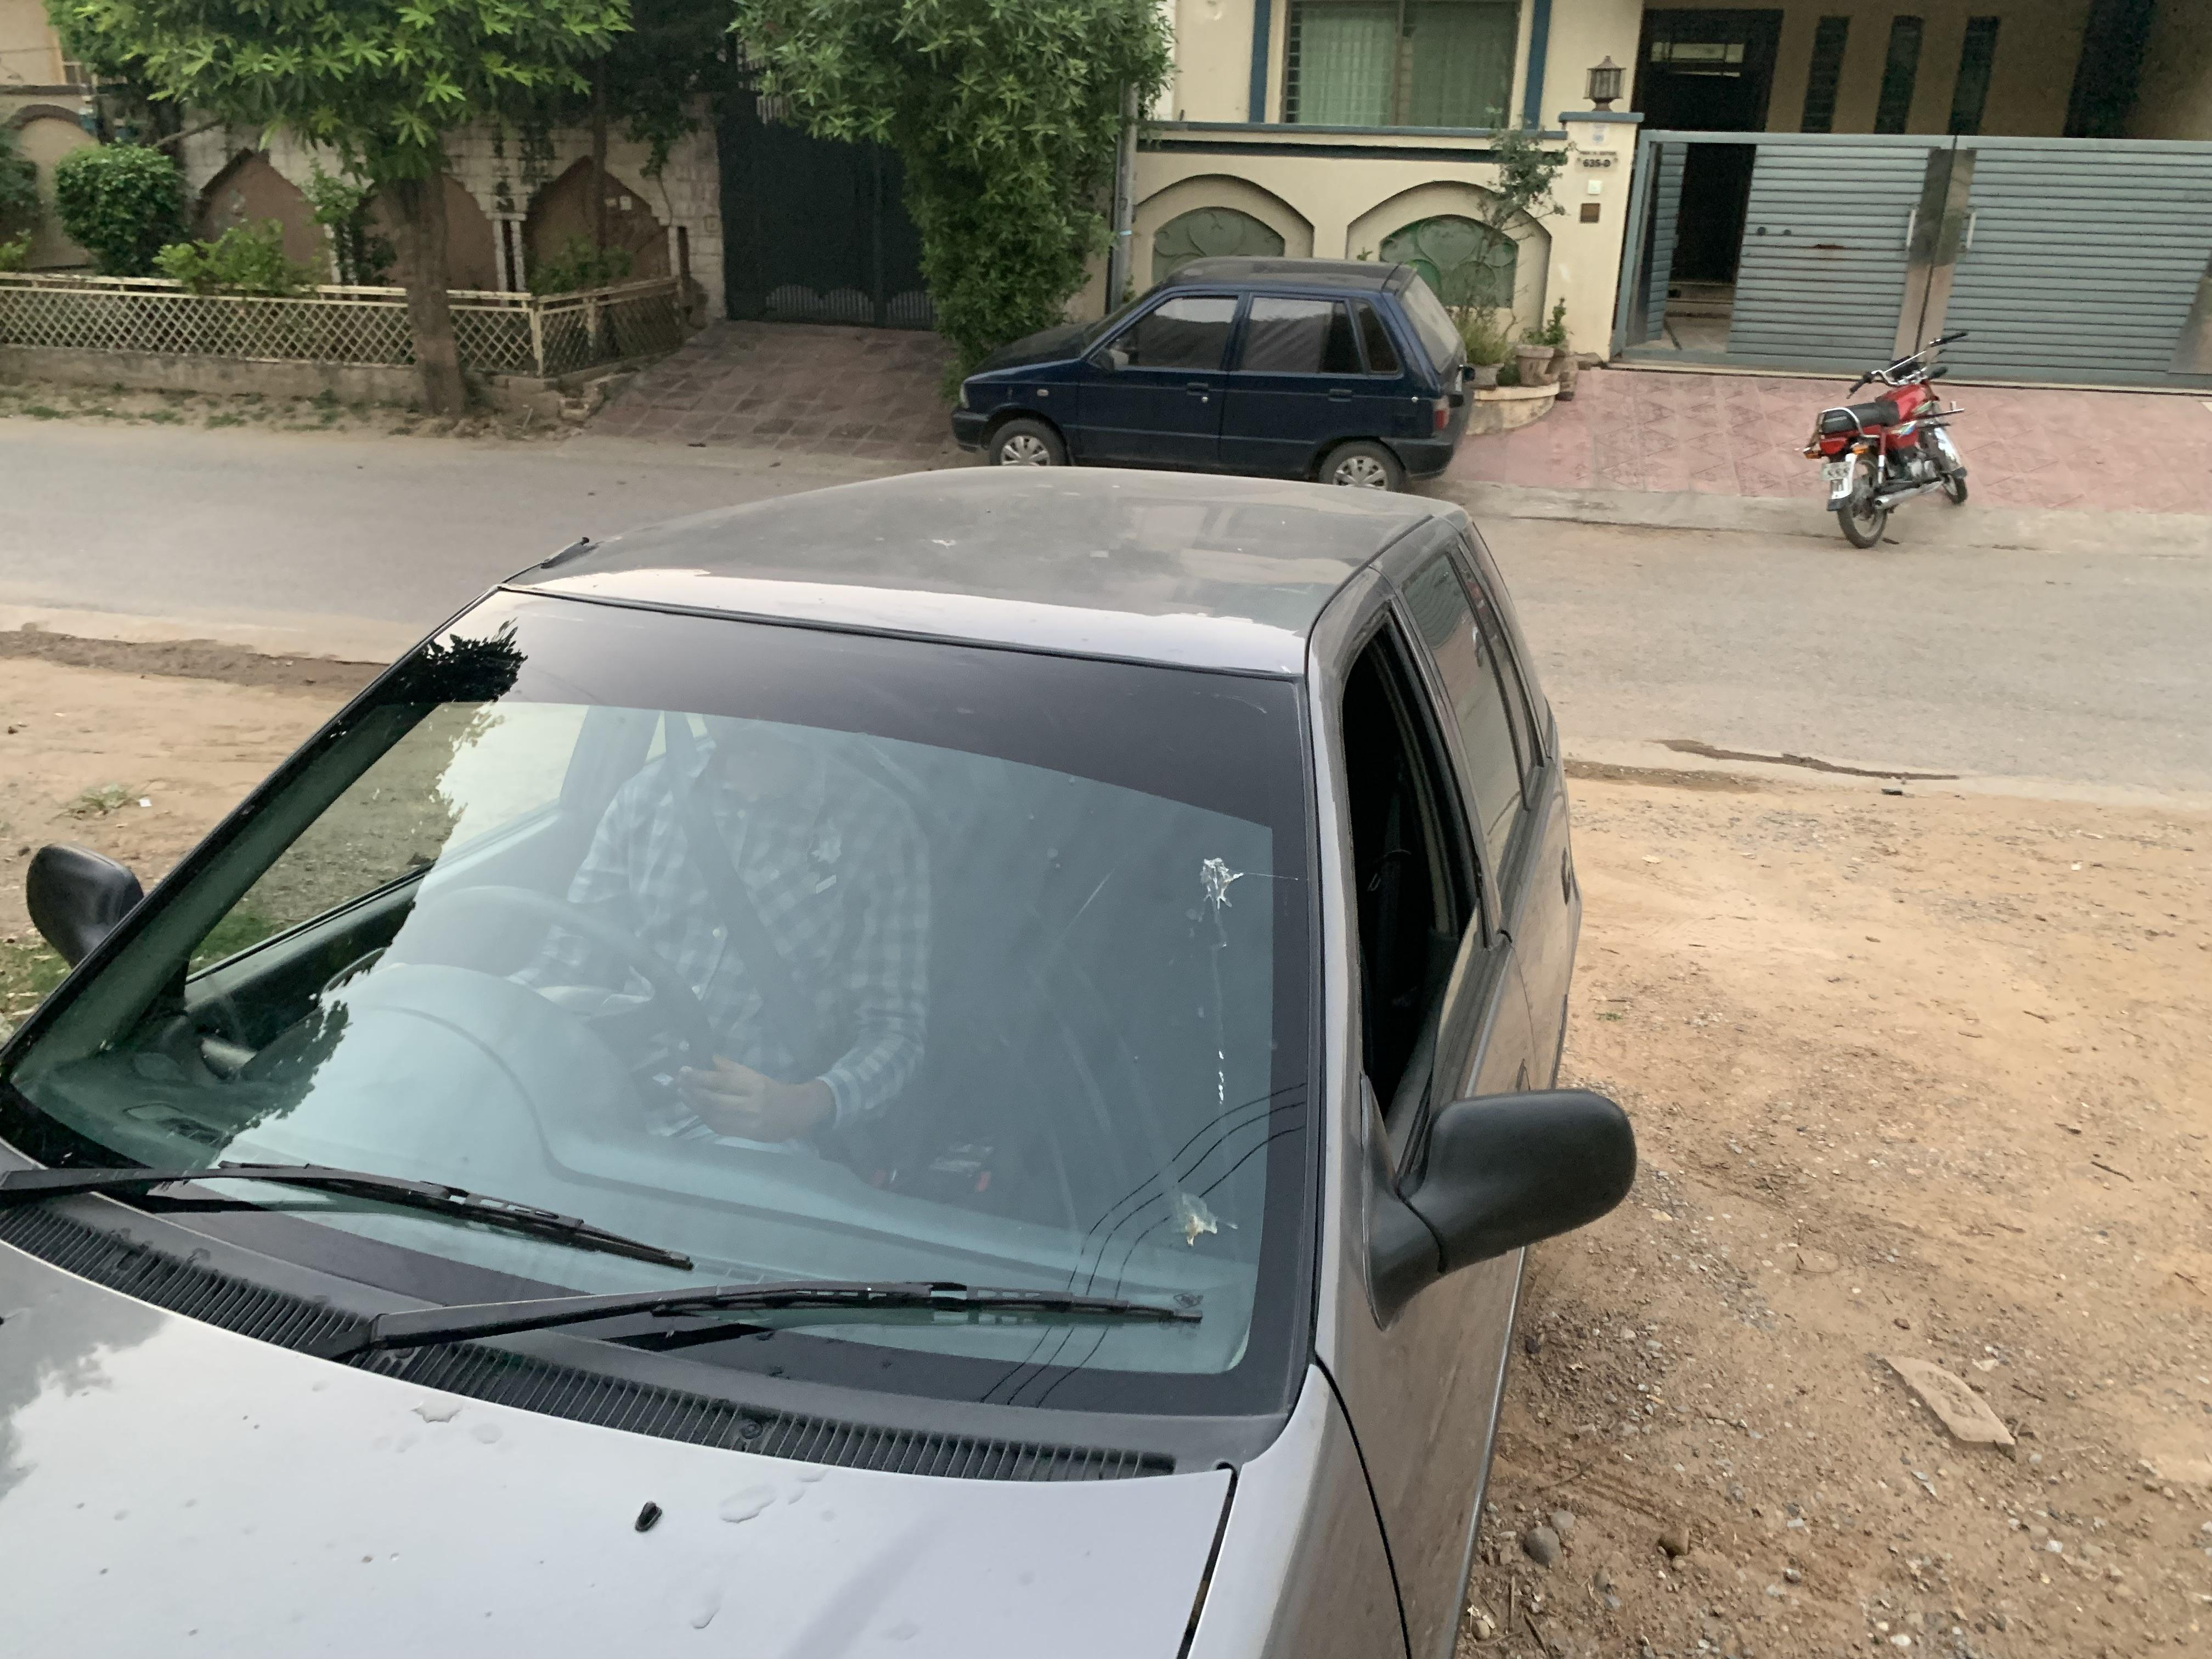windshield: (0, 565, 1306, 1420)
